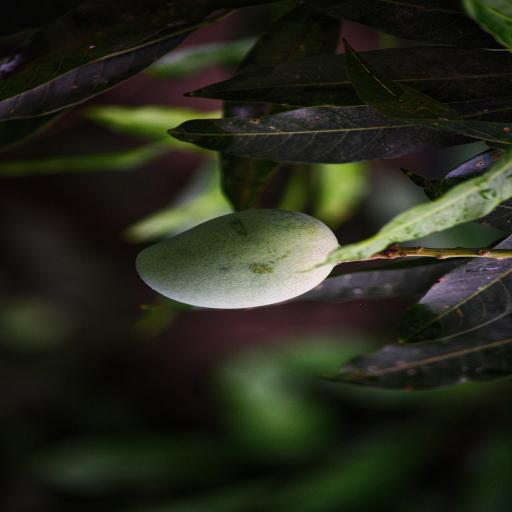Mango-Detection: (53, 132, 445, 356)
